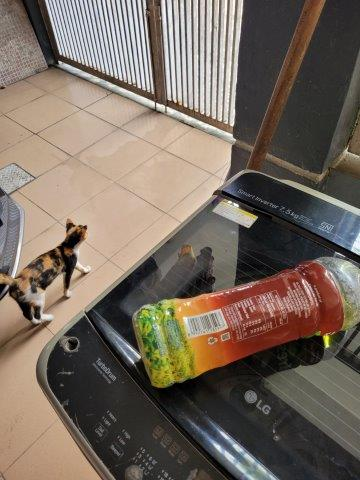botolplastik: (133, 255, 360, 390)
